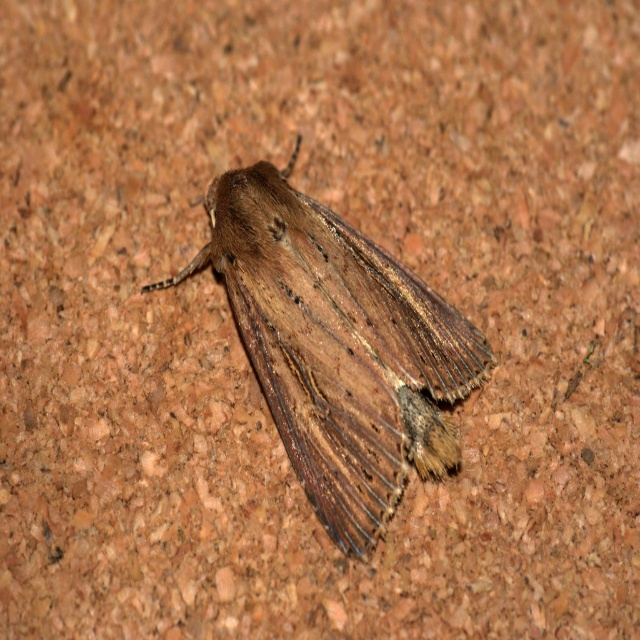Moths and butterflies: (140, 127, 501, 563)
